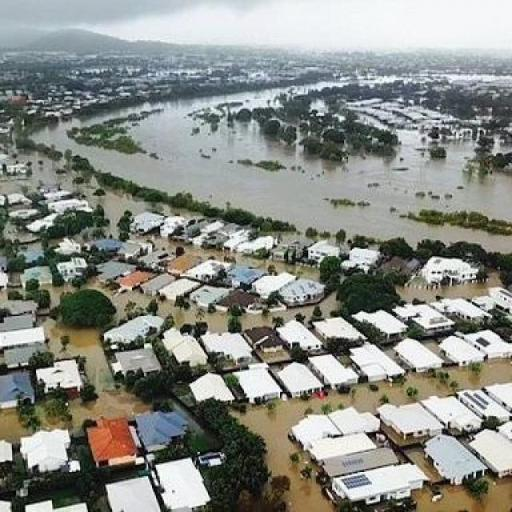flood: (32, 89, 512, 252), (233, 374, 453, 512), (0, 152, 170, 237), (36, 320, 151, 435), (185, 246, 320, 280), (414, 475, 512, 512), (396, 273, 502, 304), (88, 282, 158, 324), (157, 302, 229, 332), (442, 361, 512, 390), (240, 306, 316, 329), (400, 446, 440, 483), (0, 409, 32, 444), (320, 294, 340, 318), (321, 293, 338, 313), (155, 238, 177, 248), (296, 306, 313, 316)
house: (288, 406, 396, 486), (326, 456, 420, 506), (444, 428, 510, 482), (152, 453, 212, 508), (423, 433, 486, 485), (379, 400, 445, 447), (18, 428, 68, 482), (86, 416, 137, 468), (446, 329, 512, 369), (348, 340, 405, 384), (393, 300, 454, 336), (424, 256, 486, 291), (231, 362, 282, 404), (473, 425, 512, 477), (138, 410, 186, 452), (37, 358, 85, 398), (202, 332, 255, 368), (182, 372, 237, 406), (394, 335, 442, 373), (109, 345, 161, 380), (312, 352, 358, 390), (279, 358, 321, 399), (0, 322, 46, 358), (278, 318, 326, 352), (162, 331, 206, 367), (103, 316, 163, 342), (283, 279, 326, 306), (162, 276, 200, 305), (361, 312, 404, 337), (448, 298, 490, 322), (19, 266, 54, 294), (58, 256, 84, 282), (134, 210, 160, 236), (120, 270, 146, 292), (160, 216, 182, 239), (309, 243, 334, 261)
